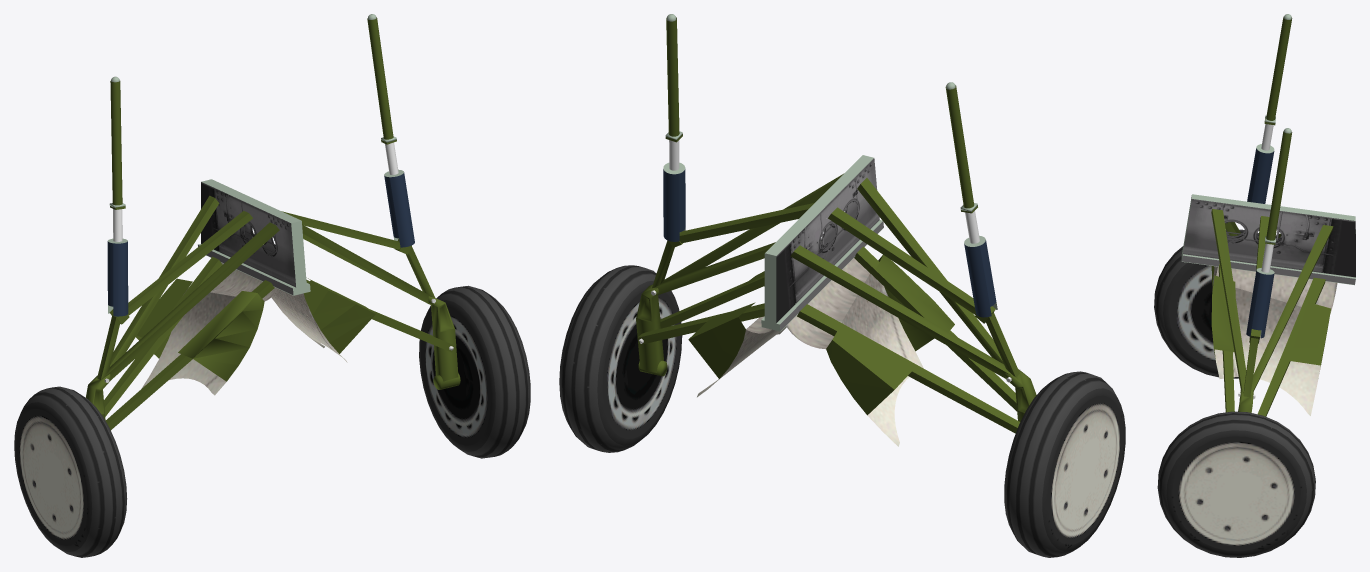
File: fm2_lgr3.glb
The picture shows the model from 3 angles, left to right: view 1: azimuth 30°, elevation 25°; view 2: azimuth 150°, elevation 25°; view 3: azimuth 270°, elevation 25°; orthographic projection. The views are drawn at different scales.
Visible parts, largest first — view 1: wheel_tireR, wheel_tireL, wheel_strutLR, wheel_strutTR, wheel_beam, wheel_strutLL, wheel_strutTL, wheel_shockR, wheel_shockL, wheel_linkL, wheel_toptopR, wheel_toptopL; view 2: wheel_tireR, wheel_strutLR, wheel_tireL, wheel_strutTR, wheel_beam, wheel_strutLL, wheel_strutTL, wheel_shockR, wheel_shockL, wheel_linkL, wheel_toptopR, wheel_toptopL (+1 smaller); view 3: wheel_tireL, wheel_strutLL, wheel_beam, wheel_tireR, wheel_strutTL, wheel_shockL, wheel_shockR, wheel_toptopL, wheel_toptopR, wheel_linkL.
Boxes of the visible parts, x1,y1,x2,y2 form: wheel_tireR: (14,386,127,557); wheel_tireL: (419,285,530,458); wheel_strutLR: (104,256,277,430); wheel_strutTR: (97,195,279,382); wheel_beam: (198,179,310,295); wheel_strutLL: (271,278,454,362); wheel_strutTL: (281,211,435,305); wheel_shockR: (107,206,128,316); wheel_shockL: (381,140,414,247); wheel_linkL: (428,296,460,389); wheel_toptopR: (109,76,125,208); wheel_toptopL: (367,14,396,142); wheel_tireR: (1004,371,1125,557); wheel_strutLR: (786,246,1020,446); wheel_tireL: (559,265,682,452); wheel_strutTR: (790,178,1020,382); wheel_beam: (761,155,883,331); wheel_strutLL: (637,241,821,397); wheel_strutTL: (651,173,843,295); wheel_shockR: (961,206,997,317); wheel_shockL: (663,134,685,241); wheel_linkL: (636,284,667,376); wheel_toptopR: (945,82,977,211); wheel_toptopL: (665,14,682,139); wheel_tireL: (1157,411,1315,557); wheel_strutLL: (1211,264,1337,416); wheel_beam: (1181,194,1355,285); wheel_tireR: (1154,229,1258,378); wheel_strutTL: (1211,209,1333,398); wheel_shockL: (1246,242,1275,338); wheel_shockR: (1247,117,1275,203); wheel_toptopL: (1265,128,1292,243); wheel_toptopR: (1265,14,1292,123); wheel_linkL: (1238,388,1253,412).
Size of the model in its own units: 6.23 by 5.77 by 2.67.
9 materials, 6 textured.
